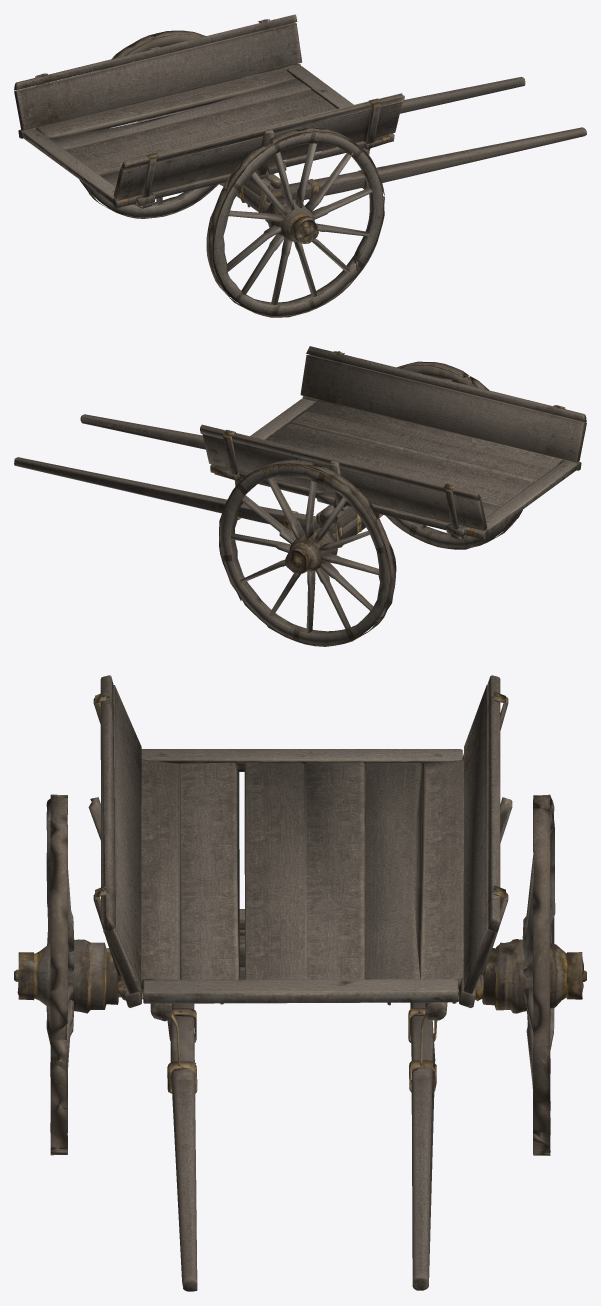
The model's file is des-cart-intact.glb.
The picture shows the model from 3 angles, top to bottom: view 1: azimuth 30°, elevation 25°; view 2: azimuth 150°, elevation 25°; view 3: azimuth 270°, elevation 25°; orthographic projection. The views are drawn at different scales.
Size of the model in its own units: 0.9438 by 0.3369 by 0.5327.
Materials: 1 (1 with a texture image).
